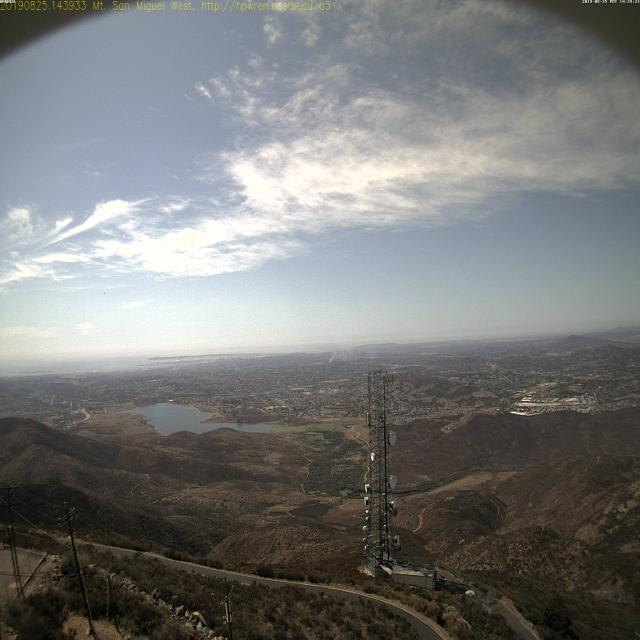smoke: (324, 340, 348, 370)
